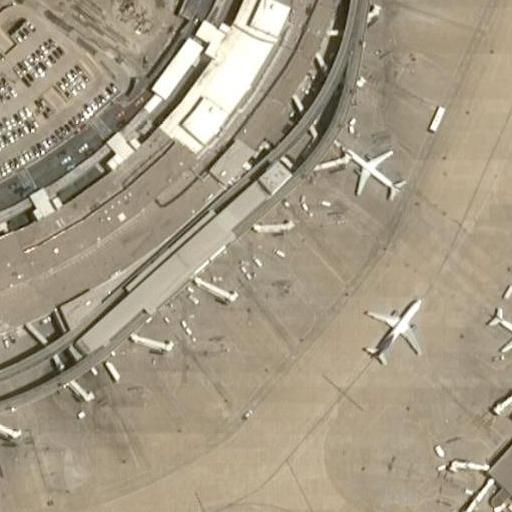Aircraft: (363, 293, 424, 361), (342, 138, 405, 202), (490, 303, 512, 356)
